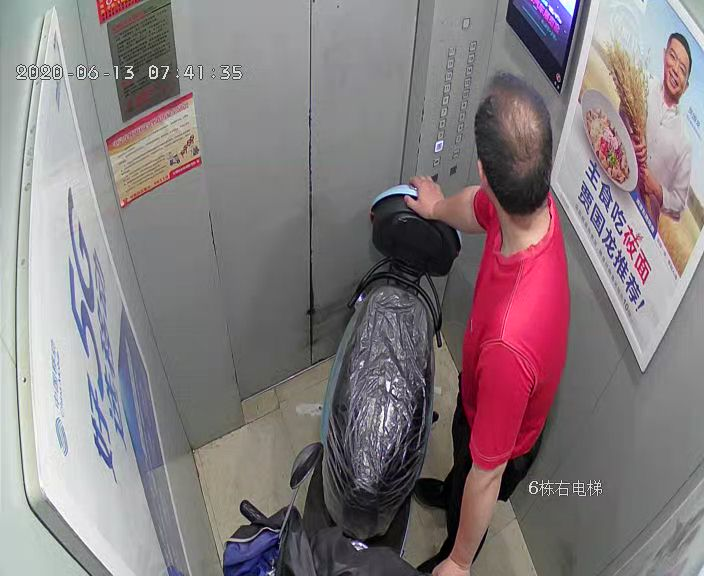Electric-bicycle: (240, 183, 461, 573)
